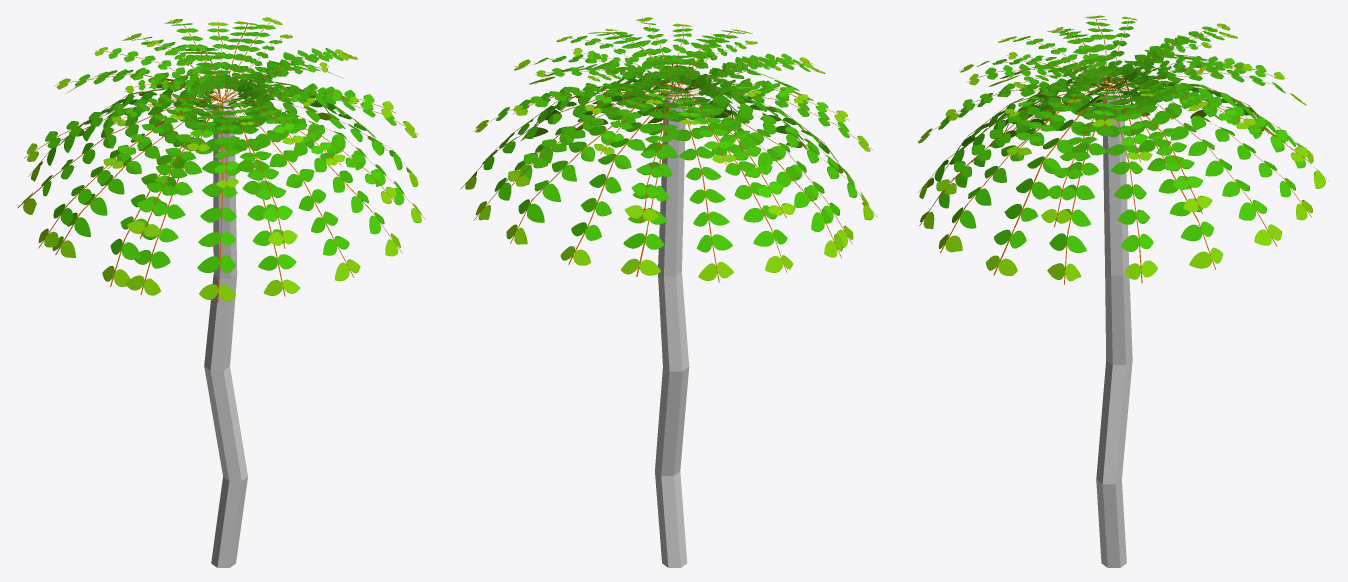
Rendered from Plant3_2.fbx.
3 renders of one model, left to right at view 1: azimuth 30°, elevation 25°; view 2: azimuth 150°, elevation 25°; view 3: azimuth 270°, elevation 25°, orthographic. The views are drawn at different scales.
Visible parts, largest first — view 1: Plant3_2; view 2: Plant3_2; view 3: Plant3_2.
Part boxes in pixels (bbox=[...]): Plant3_2: bbox=[17, 17, 425, 567]; Plant3_2: bbox=[460, 17, 877, 567]; Plant3_2: bbox=[917, 15, 1328, 567].
Bounding box in the file's own units: 1411 × 1890 × 1419.
